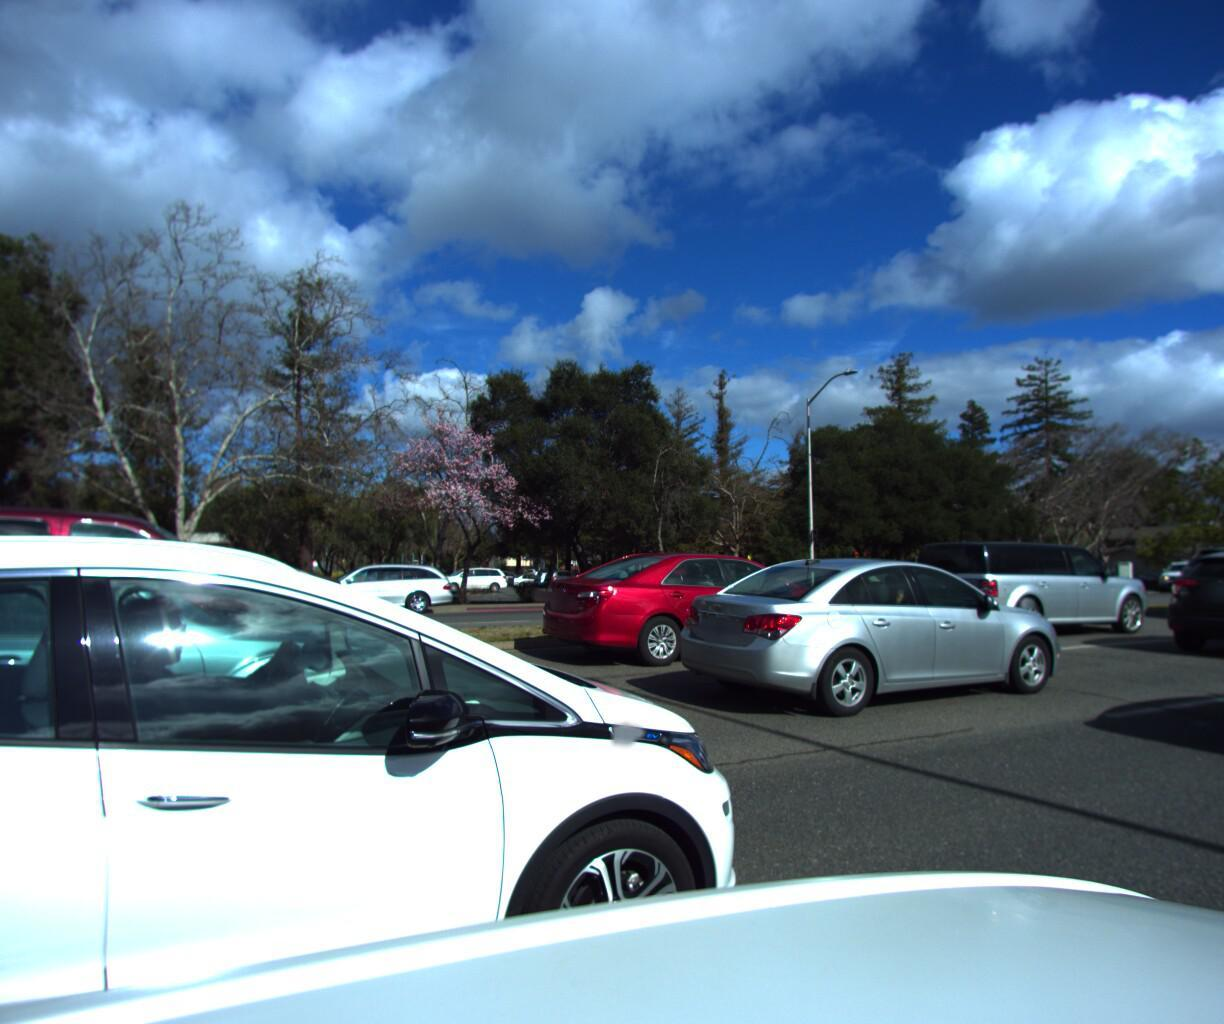car: (0, 414, 773, 1024), (0, 483, 426, 942), (0, 483, 367, 771), (646, 564, 1080, 737), (534, 556, 873, 679), (897, 541, 1168, 651), (55, 556, 274, 634), (274, 565, 461, 628), (1147, 547, 1224, 671), (1160, 539, 1224, 626), (1205, 538, 1224, 811), (1150, 561, 1209, 593)
